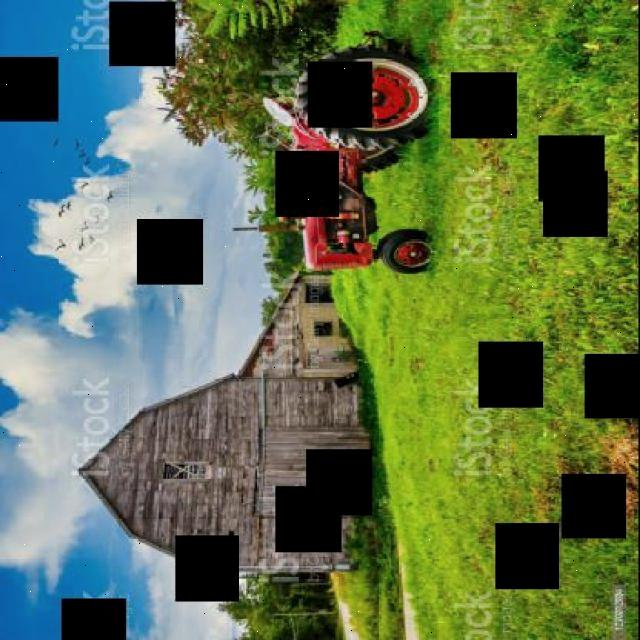Tratores - v5 YOLO V8L 2024-11-13: (177, 12, 537, 306)
